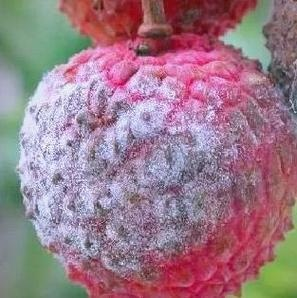Frost_Blight: (29, 70, 219, 251)
